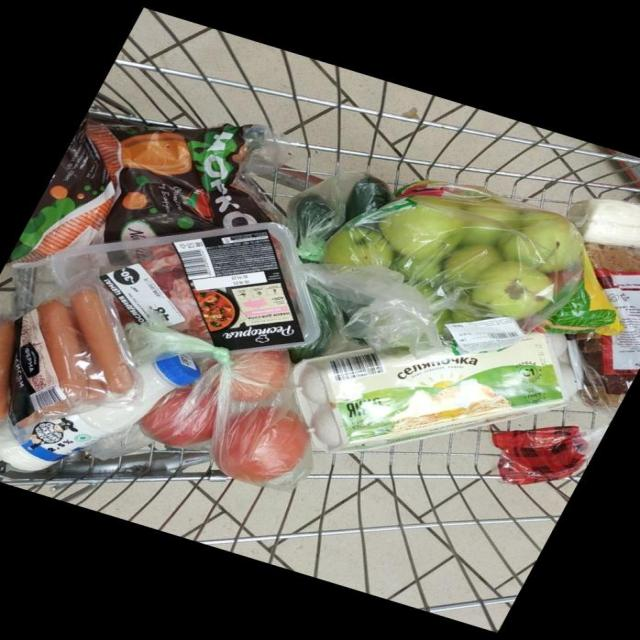Apple: (498, 211, 581, 272), (469, 260, 553, 319), (377, 201, 463, 257), (459, 200, 521, 246), (324, 226, 393, 267), (442, 245, 500, 285), (390, 254, 440, 282)
Bread: (574, 243, 640, 418), (492, 420, 611, 485)
Carrot: (25, 198, 111, 260)
Cheese: (566, 198, 640, 247)
Cucumber: (287, 285, 338, 362), (344, 175, 391, 220), (295, 195, 335, 242)
Eggs: (292, 333, 574, 453)
Meat: (51, 223, 318, 352)
Milk: (0, 353, 199, 472)
Sausages: (0, 285, 137, 438)
Tomatoes: (215, 406, 309, 485), (139, 387, 214, 447), (229, 349, 288, 403)
